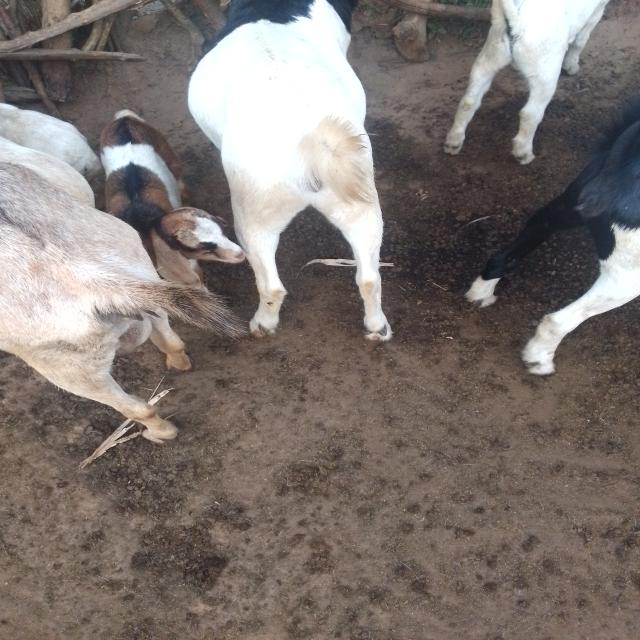goat: (160, 0, 457, 378)
